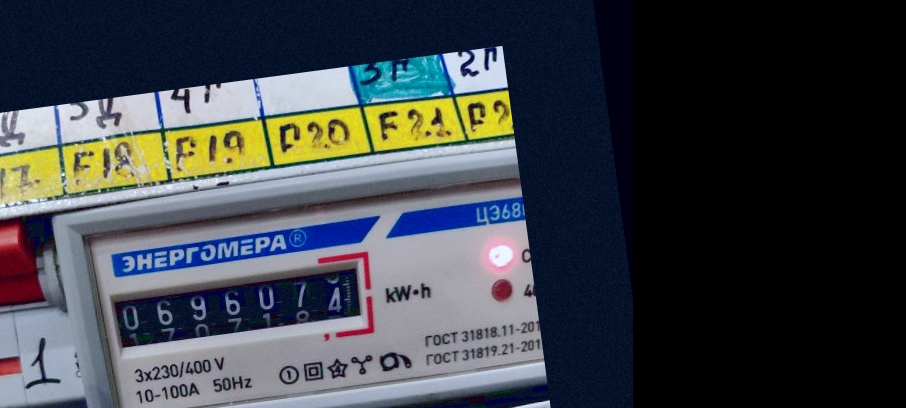0: (119, 300, 142, 332), (254, 281, 276, 311)
4: (323, 284, 345, 314)
6: (221, 286, 243, 316), (153, 297, 175, 326)
7: (289, 277, 312, 309)
9: (187, 292, 208, 323)
screen: (96, 246, 384, 369)
